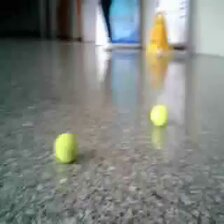tennis: (54, 132, 81, 164), (148, 105, 169, 126)
